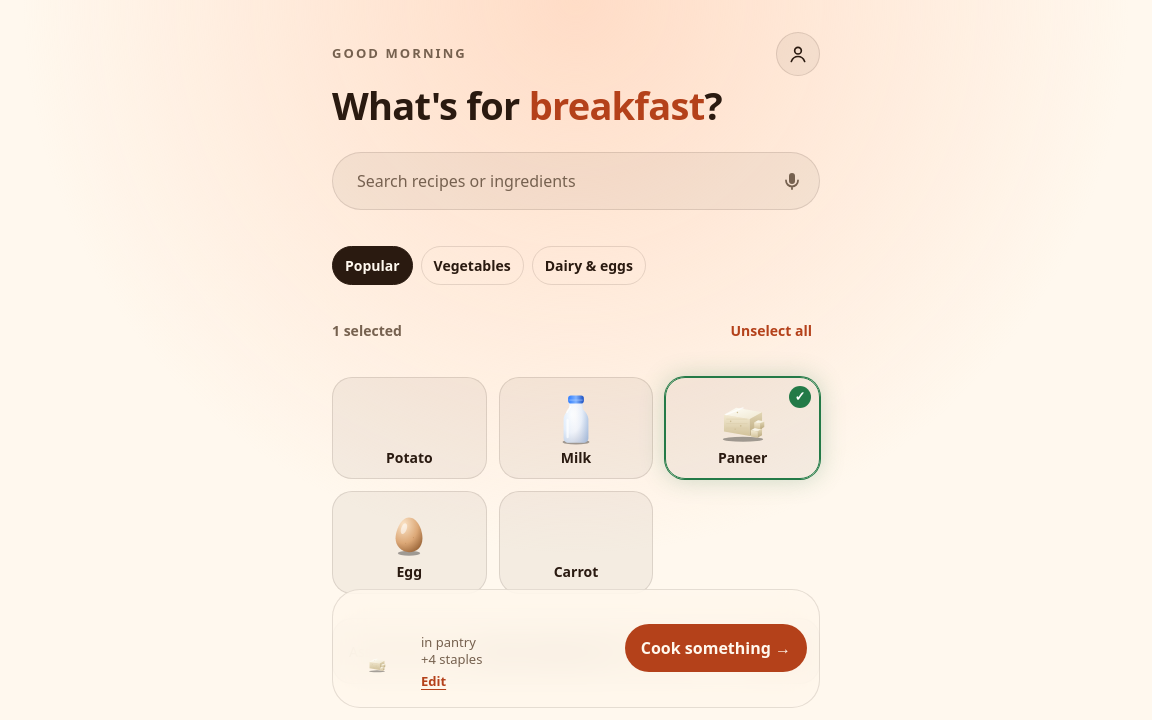
Test: typing in the pantry's box lists matching recipes, and See all opens the rest
The image size is (1152, 720).
Type "a" into the search field labelled "Search recipes or ingredients" at (576, 181), box [332,152,820,210]
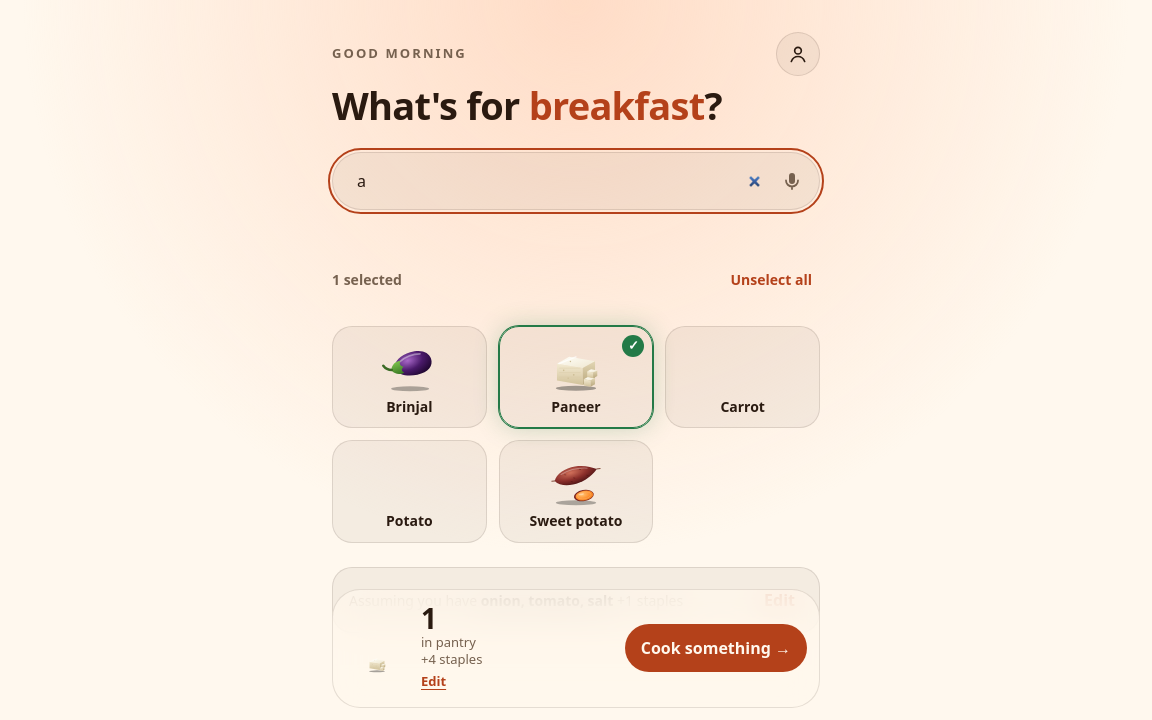
Expected: the element "Recipes" is not shown
Type "l" into the search field named "Search recipes or ingredients" at (576, 181), box [332,152,820,210]
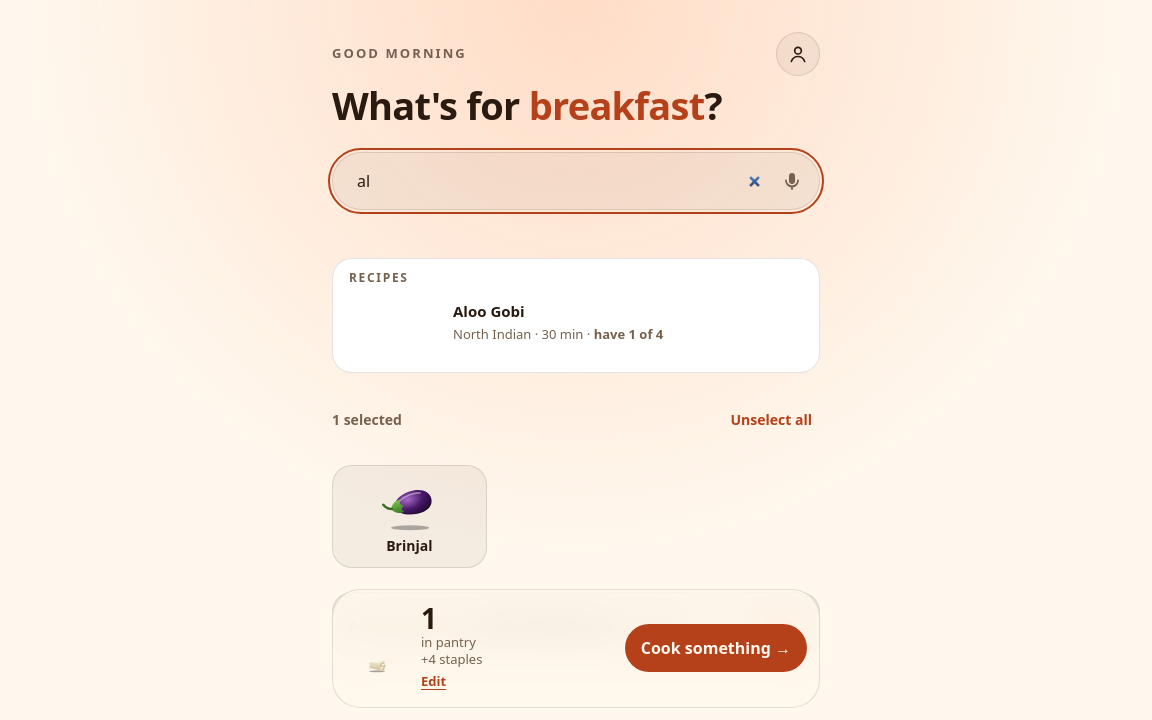
Now the link "Aloo Gobi North Indian · 30 min · have 1 of 4" is shown, box [389,302,663,343]
